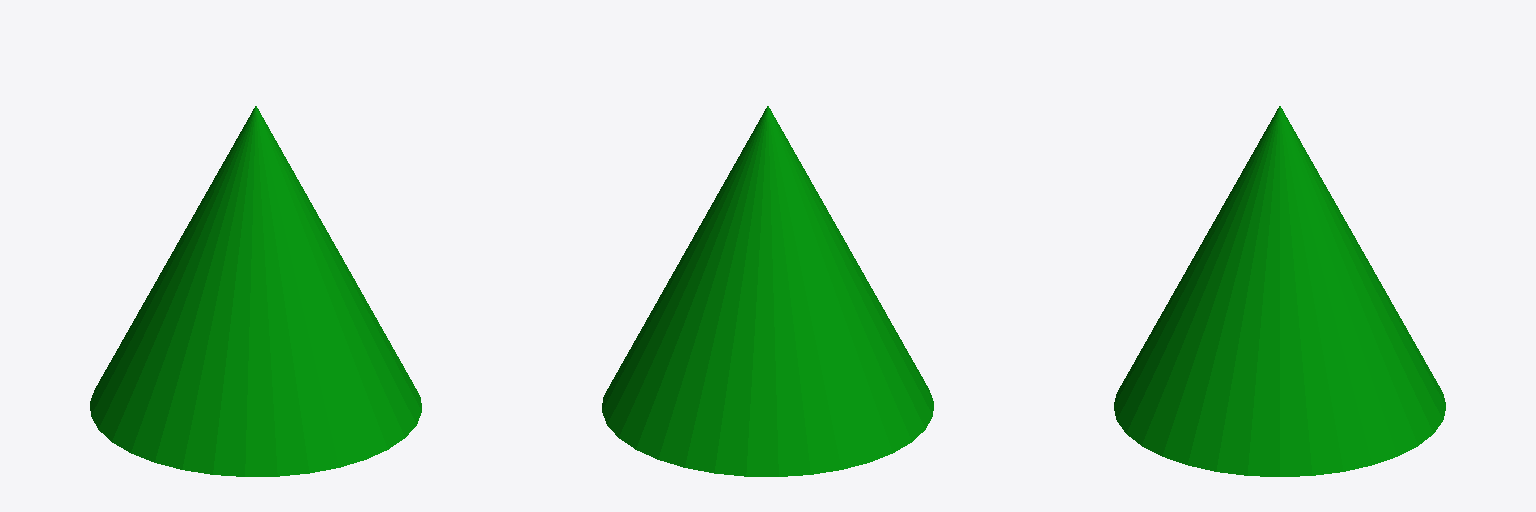
File: SelectionCone3.obj
The picture shows the model from 3 angles: view 1: azimuth 30°, elevation 25°; view 2: azimuth 150°, elevation 25°; view 3: azimuth 270°, elevation 25°; orthographic projection.
Parts seen in each view (by area): view 1: Cone.003; view 2: Cone.003; view 3: Cone.003.
Part boxes in pixels (x1,y1,x2,y2): Cone.003: (90, 106, 421, 476); Cone.003: (602, 106, 933, 476); Cone.003: (1114, 106, 1445, 476).
Size of the model in its own units: 2.03 by 2.03 by 2.03.